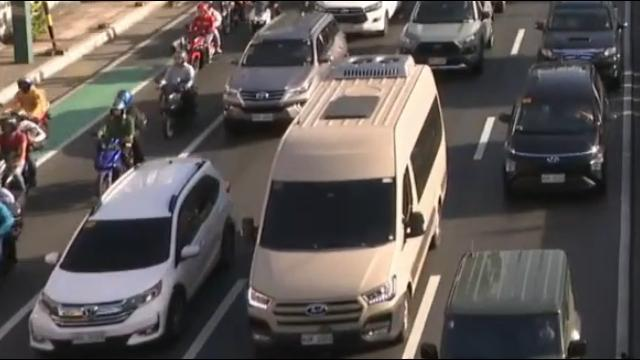car: (23, 153, 232, 360), (430, 246, 585, 360), (503, 63, 608, 205), (226, 10, 343, 131), (534, 1, 626, 89), (399, 1, 494, 75), (311, 0, 402, 37)
motorcycle: (94, 89, 147, 198), (157, 51, 196, 141), (0, 117, 36, 202), (181, 2, 224, 70), (13, 78, 53, 140)
van: (235, 60, 445, 360)
